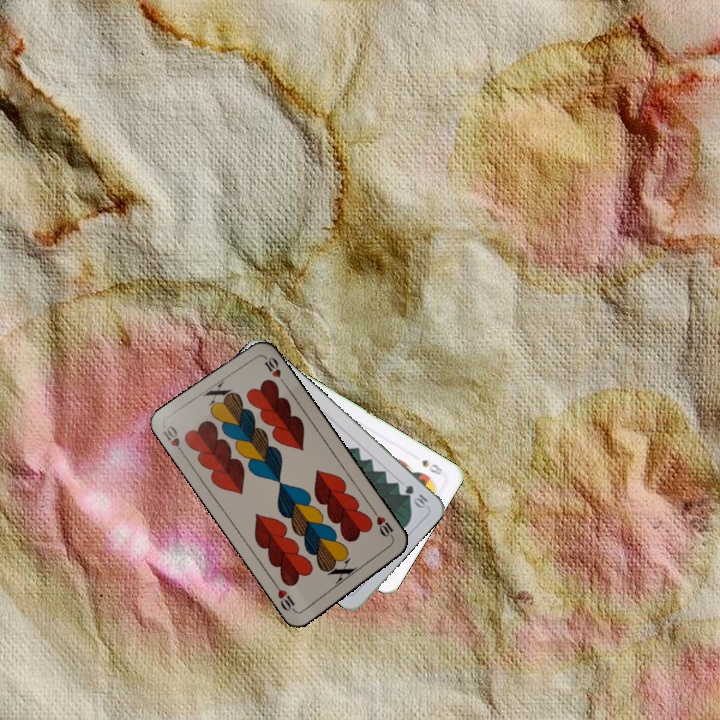G10: (401, 481, 430, 510)
H10: (159, 421, 188, 459), (369, 507, 397, 543)
S8: (418, 455, 446, 478)
